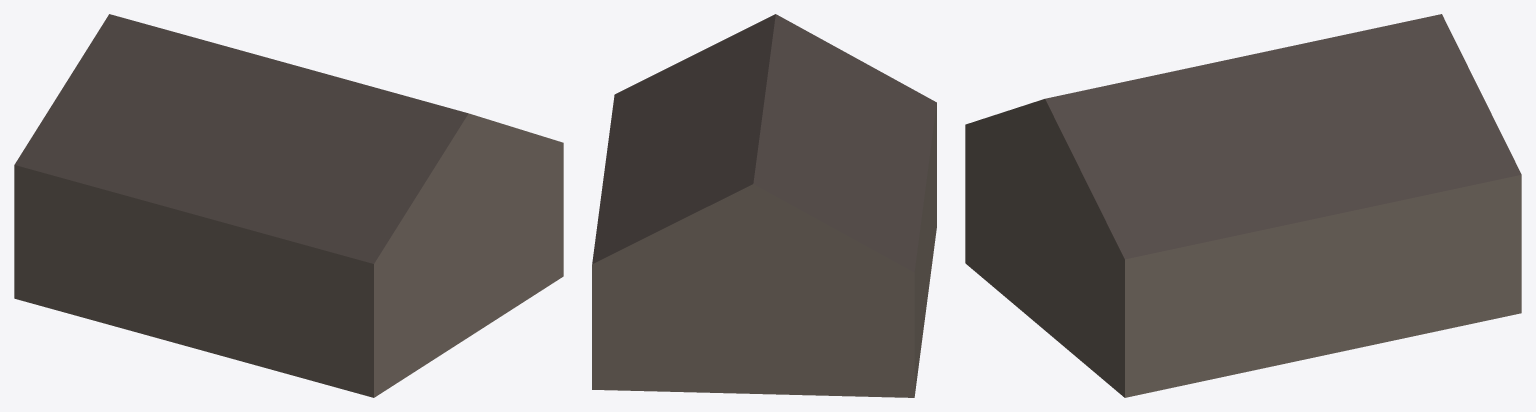
3 views of the same model, side by side, from view 1: azimuth 30°, elevation 25°; view 2: azimuth 150°, elevation 25°; view 3: azimuth 270°, elevation 25° (orthographic). The views are drawn at different scales.
Parts seen in each view (by area): view 1: HP-w369317545; view 2: HP-w369317545; view 3: HP-w369317545.
Boxes of the visible parts, x1=… form: HP-w369317545: x1=14, y1=14, x2=563, y2=397; HP-w369317545: x1=592, y1=14, x2=936, y2=397; HP-w369317545: x1=965, y1=14, x2=1521, y2=397.
Bounding box in the file's own units: 20.39 × 10.04 × 21.84.
